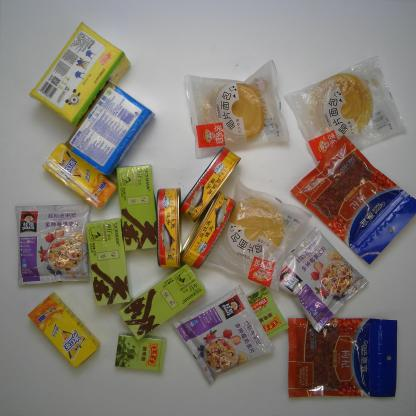Candy: (244, 285, 288, 347), (115, 332, 168, 374)
Canned Food: (179, 145, 241, 222), (181, 191, 236, 269), (153, 185, 185, 270)
Dessert: (284, 56, 409, 164), (204, 178, 312, 288), (182, 60, 290, 158)
Dried Fruit: (289, 136, 414, 266), (283, 313, 397, 400)
Drink: (29, 294, 100, 367), (44, 143, 117, 210)
Instant Drink: (272, 227, 369, 334), (176, 286, 274, 386), (119, 263, 207, 340), (15, 202, 94, 286), (112, 163, 165, 253), (86, 218, 130, 310)
Tissue: (26, 19, 130, 127), (64, 80, 154, 176)
